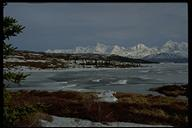mountain: (45, 37, 185, 61)
sky: (31, 4, 186, 37)
tree: (1, 10, 26, 44)
water: (22, 67, 188, 86)
